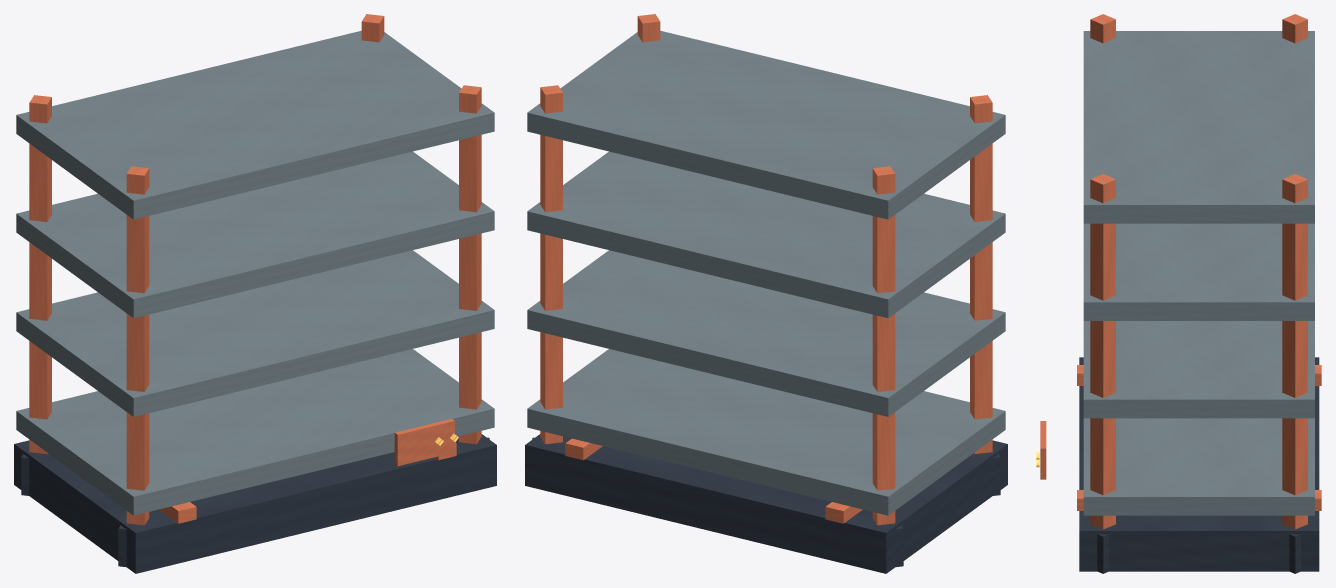
The model's file is atlas100-s028-a06.lod1.glb.
3 views of the same model, side by side, from view 1: azimuth 30°, elevation 25°; view 2: azimuth 150°, elevation 25°; view 3: azimuth 270°, elevation 25° (orthographic).
Parts seen in each view (by area): view 1: atlas100-s028-a06:part-014, atlas100-s028-a06:part-012, atlas100-s028-a06:part-013, atlas100-s028-a06:part-011, atlas100-s028-a06:part-000, atlas100-s028-a06:part-005, atlas100-s028-a06:part-009, atlas100-s028-a06:part-003, atlas100-s028-a06:part-015, atlas100-s028-a06:part-007; view 2: atlas100-s028-a06:part-014, atlas100-s028-a06:part-012, atlas100-s028-a06:part-013, atlas100-s028-a06:part-011, atlas100-s028-a06:part-000, atlas100-s028-a06:part-003, atlas100-s028-a06:part-007, atlas100-s028-a06:part-005, atlas100-s028-a06:part-009; view 3: atlas100-s028-a06:part-014, atlas100-s028-a06:part-012, atlas100-s028-a06:part-011, atlas100-s028-a06:part-013, atlas100-s028-a06:part-000, atlas100-s028-a06:part-007, atlas100-s028-a06:part-009, atlas100-s028-a06:part-003, atlas100-s028-a06:part-005, atlas100-s028-a06:part-008, atlas100-s028-a06:part-010, atlas100-s028-a06:part-015.
Boxes of the visible parts, bbox=[...] form: atlas100-s028-a06:part-014: bbox=[16, 30, 494, 219]; atlas100-s028-a06:part-012: bbox=[16, 250, 494, 416]; atlas100-s028-a06:part-013: bbox=[16, 151, 494, 318]; atlas100-s028-a06:part-011: bbox=[16, 349, 494, 515]; atlas100-s028-a06:part-000: bbox=[14, 434, 496, 573]; atlas100-s028-a06:part-005: bbox=[126, 166, 149, 525]; atlas100-s028-a06:part-009: bbox=[459, 85, 481, 444]; atlas100-s028-a06:part-003: bbox=[29, 95, 51, 453]; atlas100-s028-a06:part-015: bbox=[394, 418, 454, 466]; atlas100-s028-a06:part-007: bbox=[361, 14, 384, 42]; atlas100-s028-a06:part-014: bbox=[527, 30, 1005, 219]; atlas100-s028-a06:part-012: bbox=[527, 250, 1005, 416]; atlas100-s028-a06:part-013: bbox=[527, 151, 1005, 318]; atlas100-s028-a06:part-011: bbox=[527, 349, 1005, 515]; atlas100-s028-a06:part-000: bbox=[525, 434, 1007, 573]; atlas100-s028-a06:part-003: bbox=[872, 166, 895, 525]; atlas100-s028-a06:part-007: bbox=[540, 85, 562, 444]; atlas100-s028-a06:part-005: bbox=[970, 95, 992, 453]; atlas100-s028-a06:part-009: bbox=[637, 14, 660, 42]; atlas100-s028-a06:part-014: bbox=[1083, 31, 1314, 223]; atlas100-s028-a06:part-012: bbox=[1083, 321, 1314, 418]; atlas100-s028-a06:part-011: bbox=[1083, 418, 1314, 515]; atlas100-s028-a06:part-013: bbox=[1083, 223, 1314, 320]; atlas100-s028-a06:part-000: bbox=[1079, 357, 1319, 571]; atlas100-s028-a06:part-007: bbox=[1282, 174, 1307, 529]; atlas100-s028-a06:part-009: bbox=[1090, 174, 1115, 529]; atlas100-s028-a06:part-003: bbox=[1282, 14, 1307, 43]; atlas100-s028-a06:part-005: bbox=[1090, 14, 1115, 43]; atlas100-s028-a06:part-008: bbox=[1289, 534, 1300, 573]; atlas100-s028-a06:part-010: bbox=[1097, 534, 1108, 573]; atlas100-s028-a06:part-015: bbox=[1040, 421, 1046, 479].
Size of the model in its own units: 2.47 by 2.48 by 1.66.
4 materials, 4 textured.
